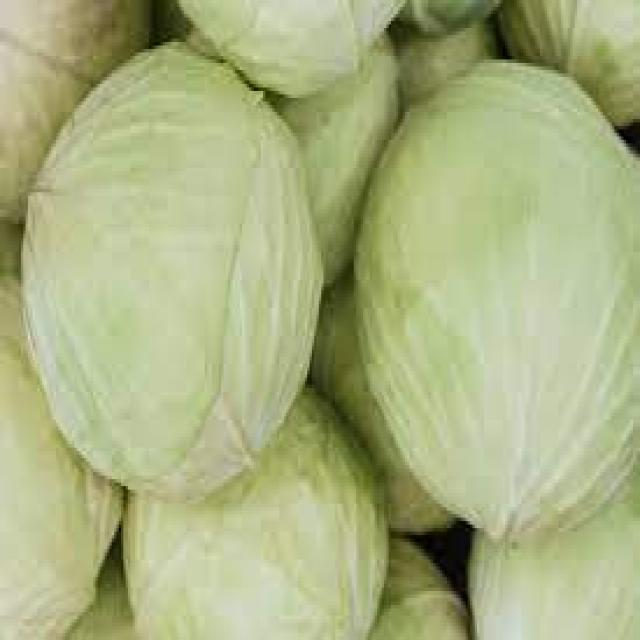Organik: (357, 54, 640, 544), (20, 32, 319, 484), (123, 377, 383, 640), (315, 240, 471, 545), (0, 264, 124, 640), (465, 451, 640, 640), (396, 0, 640, 129), (0, 0, 145, 189), (273, 55, 392, 281), (167, 0, 411, 74), (356, 510, 465, 640)
